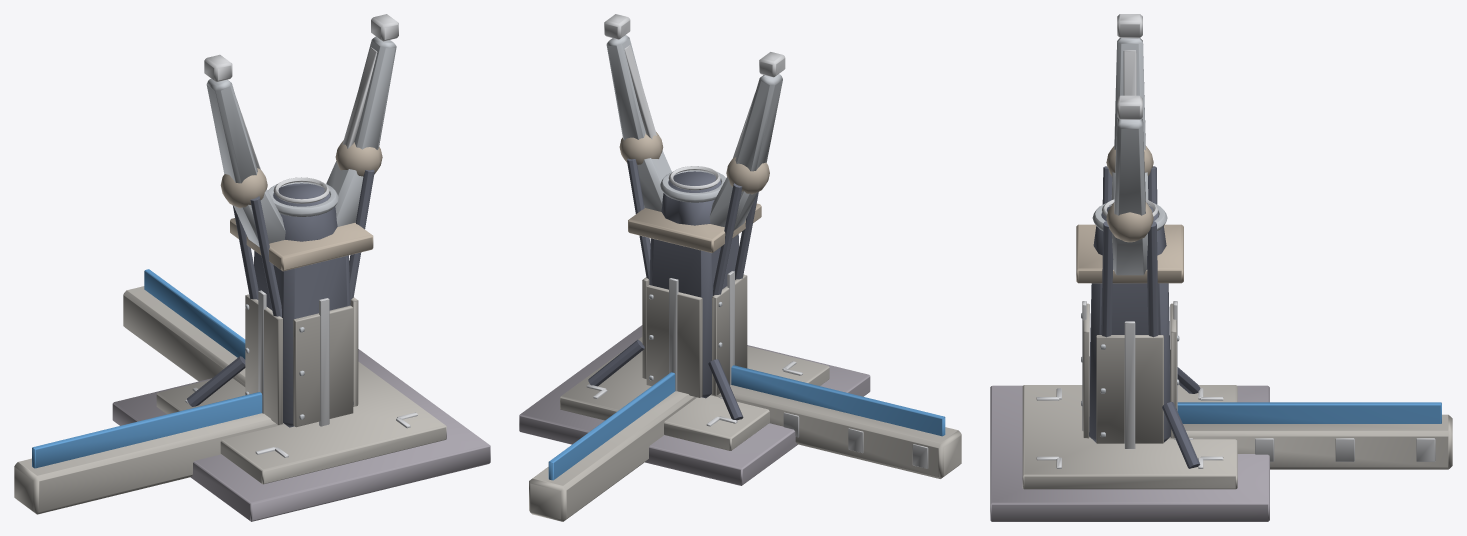
The model's file is charge_cradle.glb.
3 views of the same model, side by side, from view 1: azimuth 30°, elevation 25°; view 2: azimuth 150°, elevation 25°; view 3: azimuth 270°, elevation 25° (orthographic). The views are drawn at different scales.
Visible parts, largest first — view 1: main, bracket; view 2: main, bracket; view 3: main, bracket.
Boxes of the visible parts, x1=… form: main: x1=112, y1=14, x2=490, y2=521; bracket: x1=14, y1=269, x2=284, y2=514; main: x1=519, y1=14, x2=870, y2=485; bracket: x1=529, y1=365, x2=961, y2=521; main: x1=990, y1=14, x2=1269, y2=521; bracket: x1=1168, y1=402, x2=1452, y2=469.
Bounding box in the file's own units: 4.3 × 4.16 × 4.3.
